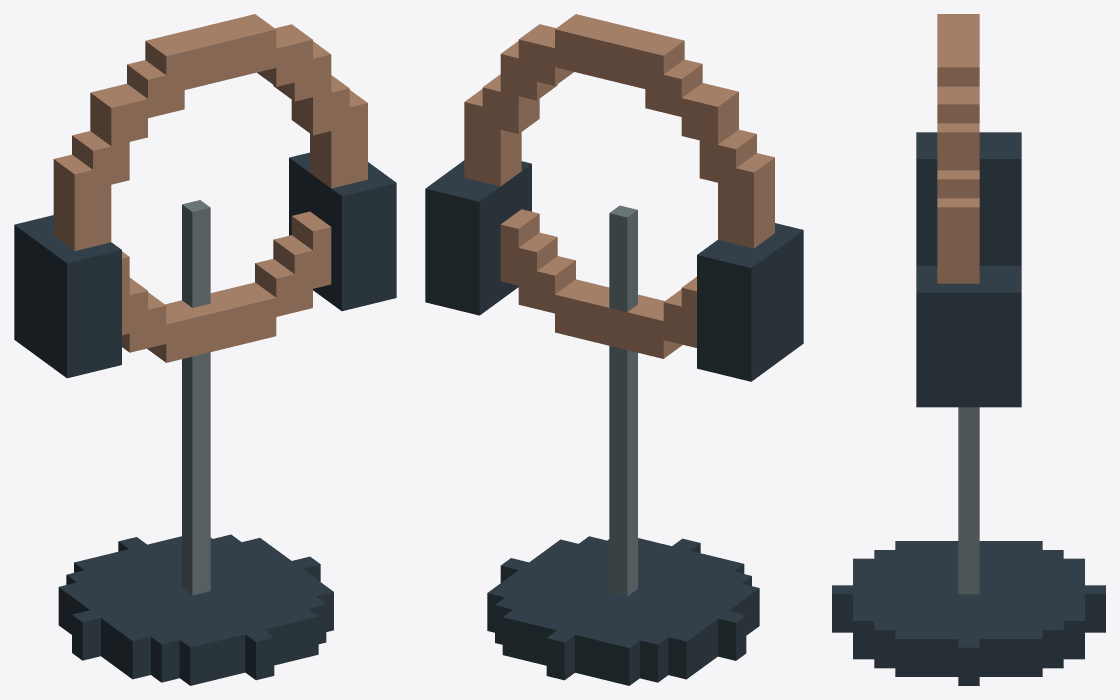
The model's file is music-10.glb.
3 renders of one model, left to right at view 1: azimuth 30°, elevation 25°; view 2: azimuth 150°, elevation 25°; view 3: azimuth 270°, elevation 25°, orthographic.
Parts seen in each view (by area): view 1: Headphone stand; view 2: Headphone stand; view 3: Headphone stand.
Part boxes in pixels (x1,y1,x2,y2): Headphone stand: (14, 14, 396, 685); Headphone stand: (425, 14, 803, 685); Headphone stand: (832, 14, 1105, 685).
Bounding box in the file's own units: 1.44 × 2.48 × 1.04.
